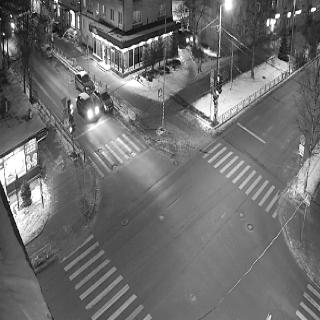small-vehicle: (76, 91, 98, 121), (92, 86, 114, 114), (72, 69, 92, 93), (41, 41, 52, 60)
